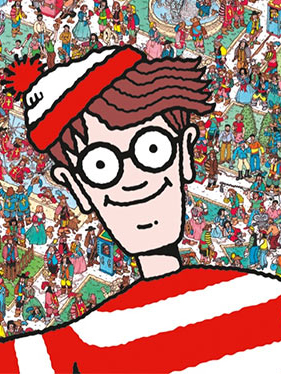waldo: (6, 53, 213, 257)
